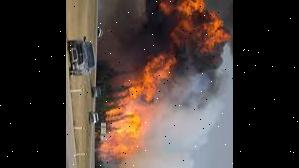fire: (100, 46, 184, 161)
